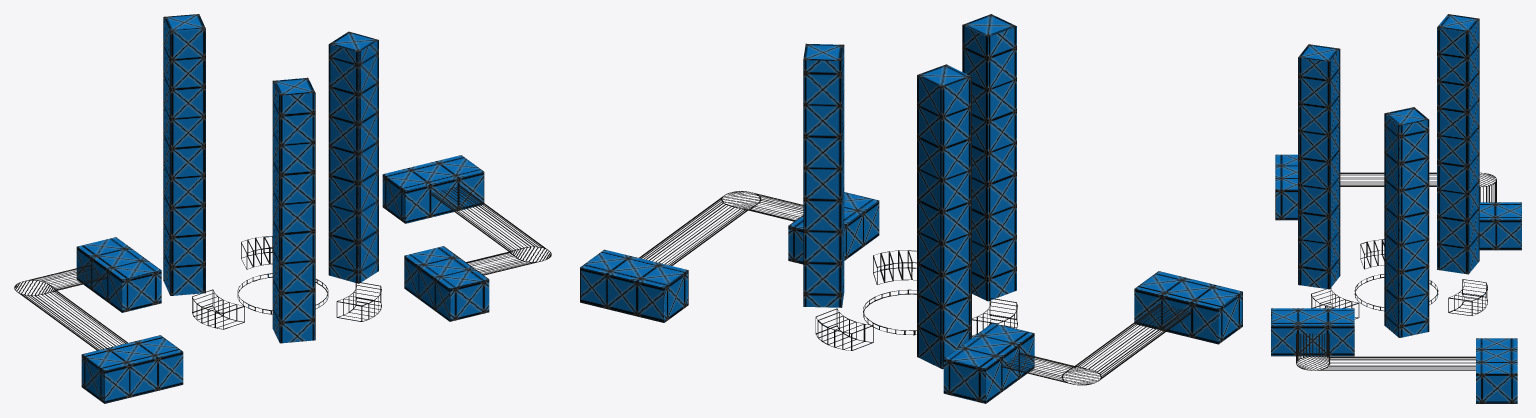
File: city.obj
3 views of the same model, side by side, from view 1: azimuth 30°, elevation 25°; view 2: azimuth 150°, elevation 25°; view 3: azimuth 270°, elevation 25° (orthographic). The views are drawn at different scales.
Parts seen in each view (by area): view 1: Cube.001_Cube.003; view 2: Cube.001_Cube.003; view 3: Cube.001_Cube.003.
Part boxes in pixels (x1,y1,x2,y2): Cube.001_Cube.003: (14, 14, 551, 403); Cube.001_Cube.003: (580, 14, 1242, 403); Cube.001_Cube.003: (1271, 14, 1521, 403).
Bounding box in the file's own units: 62 × 32 × 30.
1 material, 1 textured.
